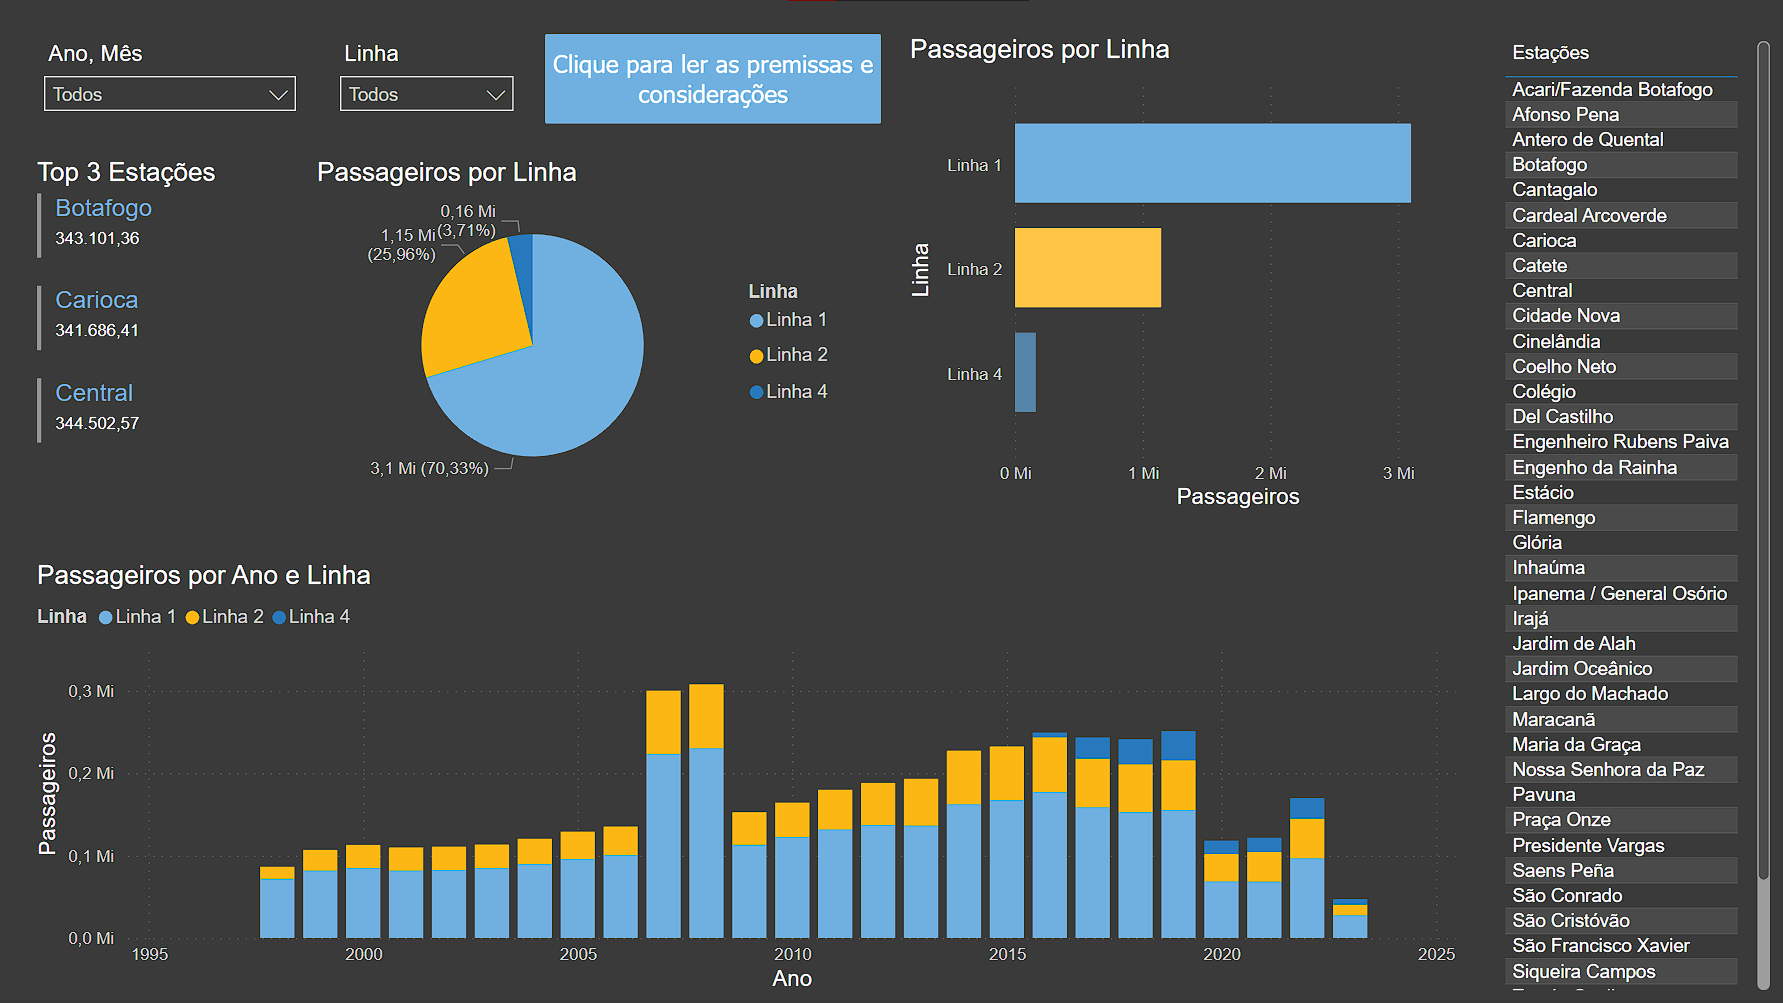

What the dashboard file says about the page in this screenshot:
{"tool":"powerbi","page":{"name":"Overview","canvas":[1280,720],"ordinal":0},"visuals":[{"type":"slicer","fields":{"Values":["DateDim.Ano","DateDim.Mês"]},"box":[24,24,200,64],"z":0},{"type":"tableEx","fields":{"Values":["Fato.Estação"]},"box":[1072,24,200,688],"z":1000},{"type":"lineStackedColumnComboChart","fields":{"Series":["Fato.Linha"],"Category":["DateDim.Ano","DateDim.Mês","DateDim.Mês Ano"],"Y":["Medidas.Passageiros"]},"box":[24,400,1024,312],"z":2000},{"type":"pieChart","fields":{"Y":["Medidas.Passageiros"],"Category":["Fato.Linha"]},"box":[224,112,384,248],"z":3000},{"type":"multiRowCard","title":"Top 3 Estações","fields":{"Values":["Fato.Estação","Sum(Fato.Passageiros)"]},"box":[24,112,184,256],"z":4000},{"type":"clusteredBarChart","fields":{"Y":["Medidas.Passageiros"],"Category":["Fato.Linha"]},"box":[648,24,416,344],"z":5000},{"type":"shape","box":[392,24,240,64],"z":6000},{"type":"slicer","fields":{"Values":["Fato.Linha"]},"box":[236,24,144,64],"z":7000}]}

Visuals, with their boxes in screenshot pixels (x1, y1, x2, y2), scaled from the page's 1280x720 canvas onto the 1783x1003 screenshot:
slicer - DateDim.Ano x DateDim.Mês: x1=33, y1=33, x2=312, y2=123
tableEx - Fato.Estação: x1=1493, y1=33, x2=1772, y2=992
lineStackedColumnComboChart - Fato.Linha x DateDim.Ano: x1=33, y1=557, x2=1460, y2=992
pieChart - Medidas.Passageiros x Fato.Linha: x1=312, y1=156, x2=847, y2=502
"Top 3 Estações" multiRowCard: x1=33, y1=156, x2=290, y2=513
clusteredBarChart - Medidas.Passageiros x Fato.Linha: x1=903, y1=33, x2=1482, y2=513
shape: x1=546, y1=33, x2=880, y2=123
slicer - Fato.Linha: x1=329, y1=33, x2=529, y2=123
